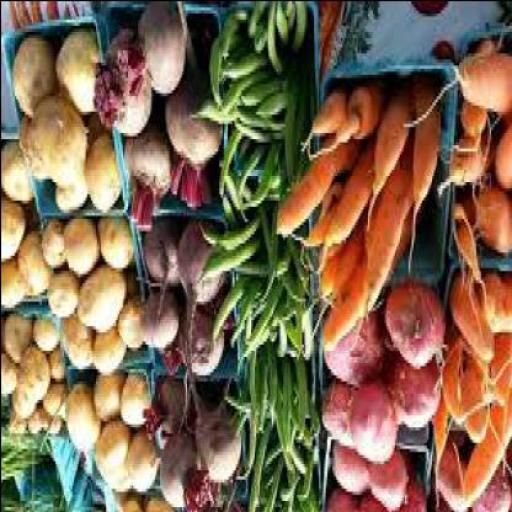biodegradable: (320, 214, 410, 352), (360, 138, 409, 328), (273, 141, 356, 242), (160, 88, 222, 212), (174, 227, 225, 371), (115, 3, 183, 102), (91, 30, 149, 141), (318, 144, 372, 263), (363, 89, 407, 233), (404, 80, 438, 261), (306, 86, 382, 163), (456, 399, 510, 506), (321, 304, 384, 395), (186, 384, 240, 484), (24, 96, 82, 186), (382, 283, 441, 371), (122, 129, 171, 233), (448, 48, 510, 128), (155, 432, 209, 511), (162, 312, 222, 383), (446, 273, 492, 365), (50, 28, 96, 120), (346, 380, 394, 466), (386, 352, 437, 432), (140, 221, 179, 322), (317, 220, 362, 304), (294, 174, 344, 248), (74, 266, 124, 338), (8, 37, 52, 117), (438, 331, 473, 430), (137, 291, 177, 375), (436, 136, 487, 200), (299, 89, 343, 156), (196, 238, 257, 286), (491, 331, 510, 479), (61, 384, 98, 458), (82, 137, 117, 215), (471, 190, 511, 258), (1, 426, 46, 485), (457, 359, 487, 447), (363, 450, 406, 511), (432, 434, 466, 511), (142, 380, 184, 442), (241, 282, 276, 356), (91, 423, 127, 494), (242, 147, 279, 211), (296, 12, 310, 175), (59, 221, 95, 282), (320, 380, 352, 448), (230, 147, 262, 215), (14, 346, 49, 408), (227, 282, 257, 353), (220, 70, 265, 117), (209, 285, 244, 344), (14, 233, 46, 297), (124, 430, 156, 494), (329, 444, 365, 500), (1, 146, 32, 210), (469, 465, 512, 511), (481, 270, 510, 337), (236, 362, 252, 481), (449, 226, 479, 288), (451, 102, 487, 153), (282, 58, 296, 186), (95, 224, 130, 273), (215, 126, 237, 203), (89, 330, 124, 378), (198, 223, 245, 258), (215, 166, 247, 217), (117, 377, 146, 433), (0, 313, 31, 365), (236, 76, 282, 111), (188, 94, 237, 126), (246, 434, 266, 511), (260, 3, 280, 79), (488, 126, 510, 193), (59, 324, 90, 371), (216, 220, 257, 255), (1, 196, 22, 264), (264, 447, 286, 511), (91, 374, 118, 426), (46, 273, 76, 319), (232, 254, 286, 279), (115, 297, 139, 353), (218, 56, 262, 86), (215, 12, 238, 68), (218, 58, 262, 86), (258, 212, 272, 300), (250, 434, 266, 511), (50, 180, 85, 215), (290, 361, 304, 445), (279, 358, 291, 454), (1, 261, 21, 313), (208, 40, 222, 114), (231, 126, 272, 150), (250, 316, 277, 352), (250, 92, 282, 122), (253, 356, 265, 436), (39, 227, 61, 270), (291, 239, 306, 300), (390, 484, 425, 510), (29, 322, 53, 359), (263, 365, 276, 429), (277, 319, 295, 362), (433, 399, 445, 463), (244, 3, 263, 43), (40, 383, 62, 417), (258, 445, 277, 484), (238, 285, 248, 359), (288, 3, 302, 55), (224, 402, 274, 416), (272, 3, 286, 52), (44, 350, 61, 386), (286, 441, 302, 478), (1, 354, 14, 399), (22, 404, 38, 439), (296, 463, 310, 503), (1, 410, 22, 436), (81, 117, 101, 144), (452, 202, 471, 230), (278, 288, 302, 310), (353, 496, 388, 511), (322, 494, 354, 510), (279, 441, 292, 476), (142, 496, 172, 511), (251, 120, 281, 135), (40, 411, 56, 438), (252, 22, 264, 58), (279, 481, 296, 506), (114, 496, 142, 511), (220, 200, 234, 230), (289, 310, 297, 362), (226, 37, 242, 61), (122, 276, 135, 304), (231, 9, 245, 28), (282, 2, 292, 24)
